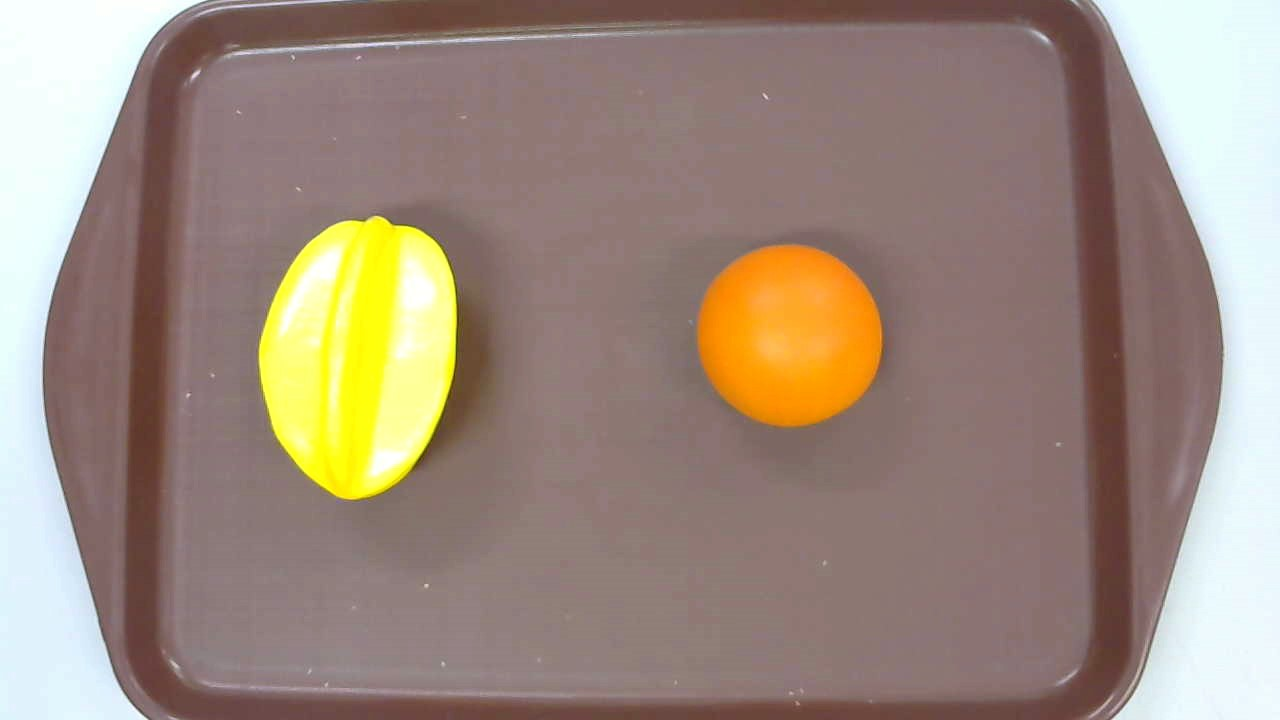bun: (697, 242, 883, 428)
star fruit: (257, 216, 456, 500)
